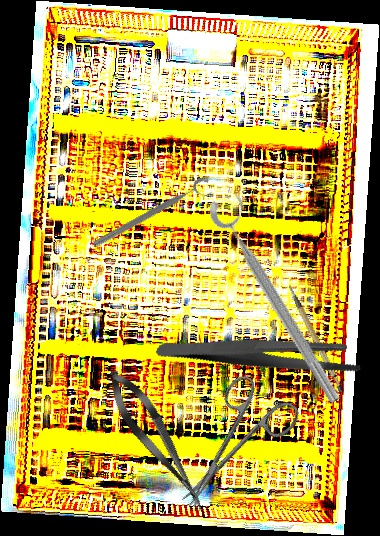Dressing Forceps: (154, 289, 367, 417)
Fixation Ring: (204, 187, 358, 408), (90, 174, 217, 257)
Iris Scissors: (154, 366, 304, 526)
Micro Scissor: (98, 362, 216, 519)
Scalpel Handle: (287, 277, 346, 398)
